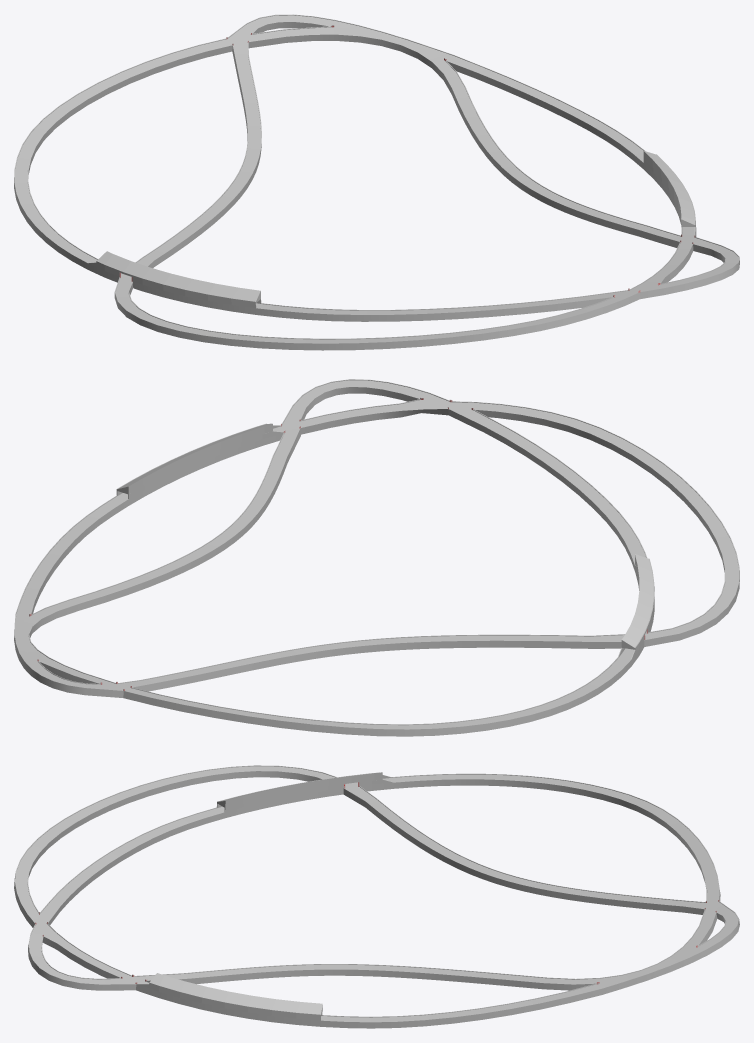
The model's file is mountain-race-track.FBX.
3 renders of one model, top to bottom at view 1: azimuth 30°, elevation 25°; view 2: azimuth 150°, elevation 25°; view 3: azimuth 270°, elevation 25°, orthographic. The views are drawn at different scales.
Visible parts, largest first — view 1: Circle01; view 2: Circle01; view 3: Circle01.
Boxes of the visible parts, bbox=[...] form: Circle01: bbox=[14, 14, 739, 350]; Circle01: bbox=[14, 379, 739, 736]; Circle01: bbox=[14, 765, 739, 1028].
Bounding box in the file's own units: 157 × 8.16 × 189.
